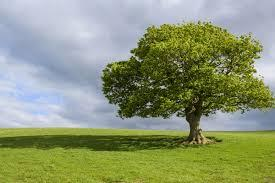tree: (102, 22, 275, 145)
